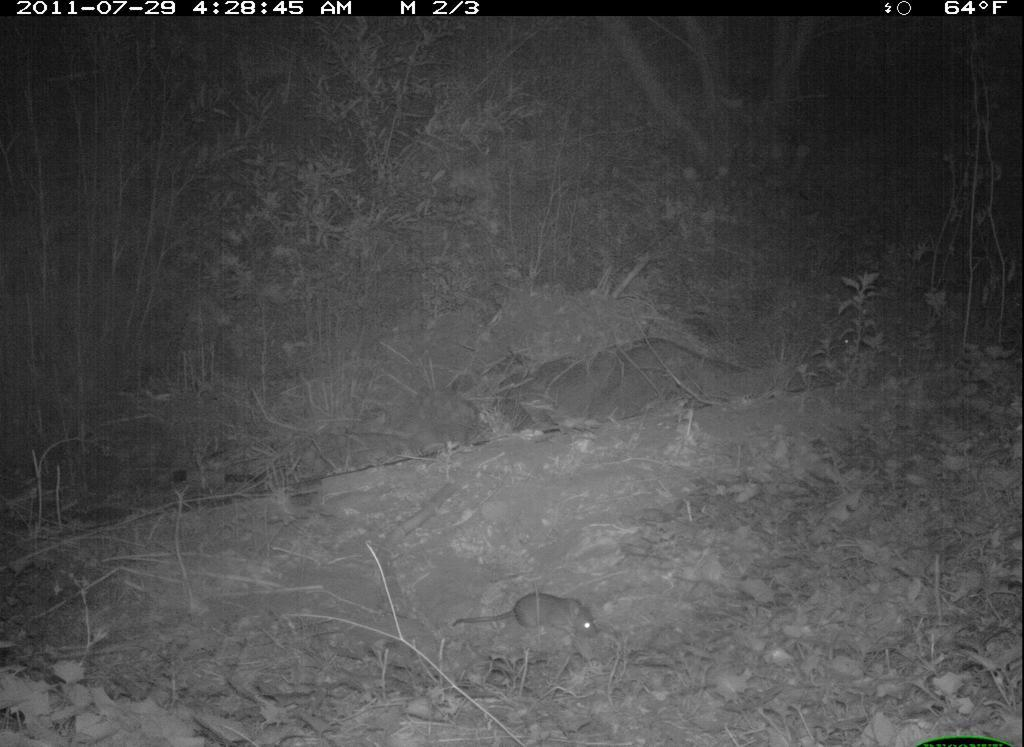rodent: (454, 587, 607, 648)
